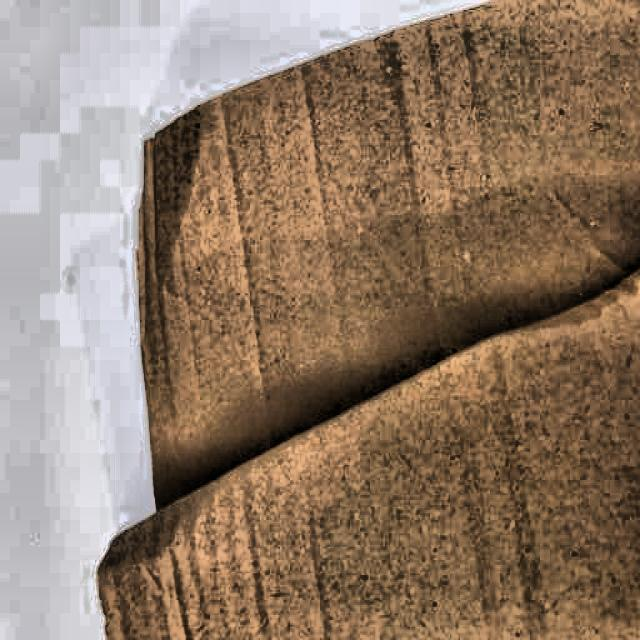cardboard: (104, 30, 640, 640)
